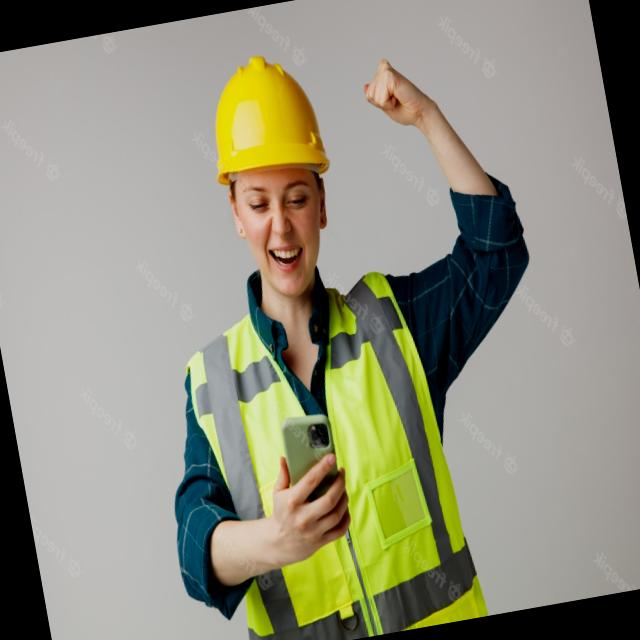helmet: (196, 43, 332, 192)
no-goggles: (218, 162, 336, 236)
vest: (173, 258, 489, 640)
